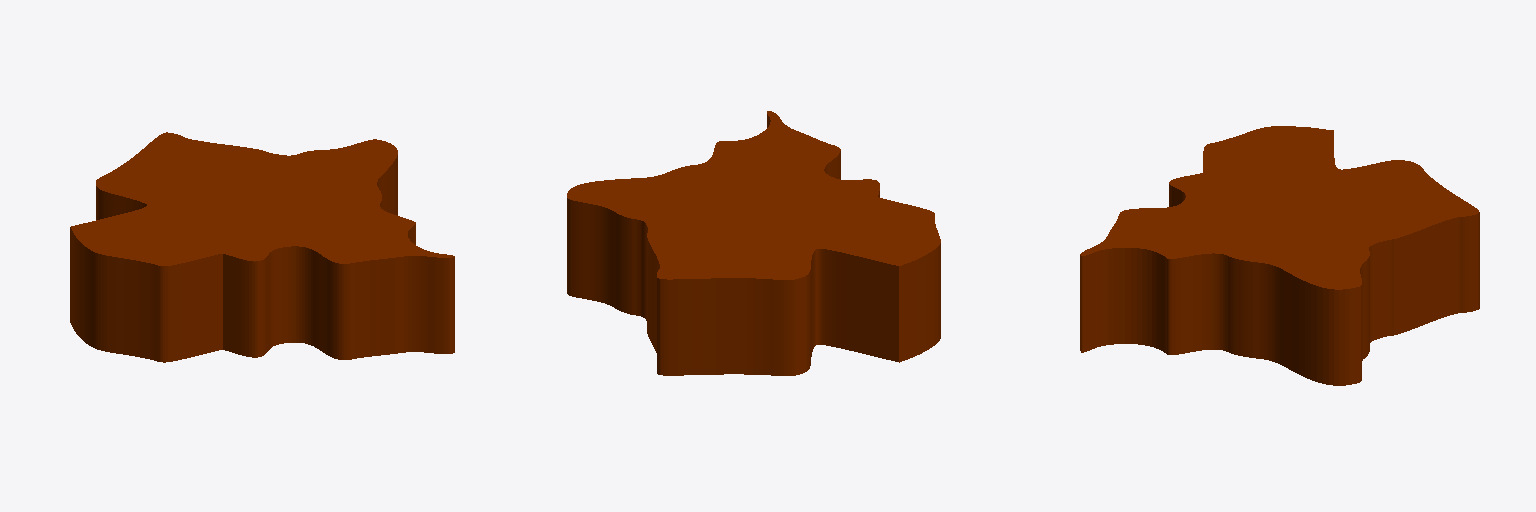
3 views of the same model, side by side, from view 1: azimuth 30°, elevation 25°; view 2: azimuth 150°, elevation 25°; view 3: azimuth 270°, elevation 25° (orthographic).
Parts seen in each view (by area): view 1: Curve.022_path4220; view 2: Curve.022_path4220; view 3: Curve.022_path4220.
Boxes of the visible parts, <box> form: Curve.022_path4220: <box>70,132,454,362</box>; Curve.022_path4220: <box>567,111,940,375</box>; Curve.022_path4220: <box>1080,126,1479,385</box>.
Bounding box in the file's own units: 0.3644 × 0.1 × 0.376.